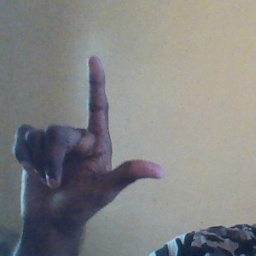L: (14, 55, 164, 225)
